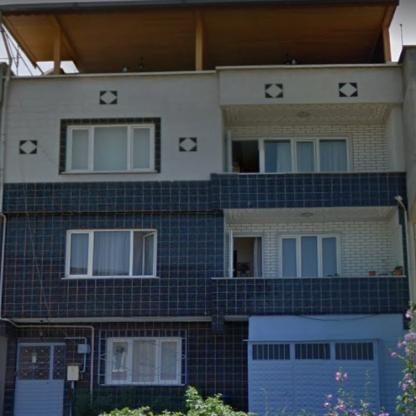door: (15, 338, 64, 416), (226, 130, 232, 172), (228, 231, 232, 278)
window: (249, 340, 379, 412), (66, 230, 156, 278), (66, 123, 154, 171), (106, 338, 180, 385), (262, 136, 353, 173), (278, 235, 340, 277)
